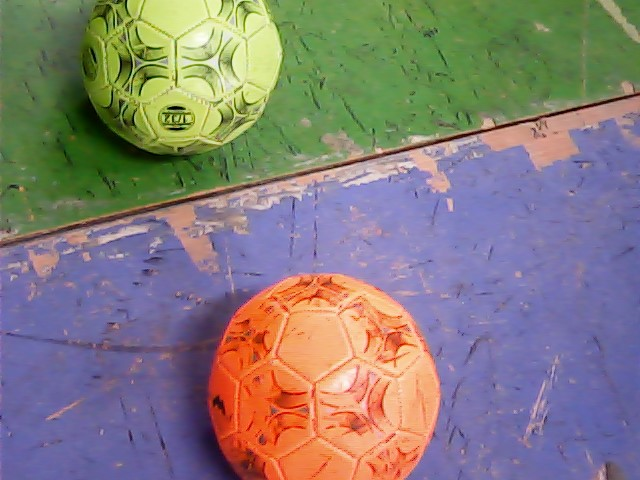Green_ball: (77, 3, 307, 155)
Orange_ball: (206, 264, 442, 480)
